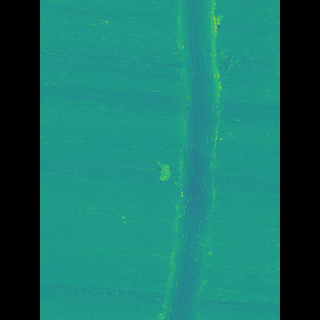Loch: (156, 0, 207, 320), (156, 155, 169, 185)
